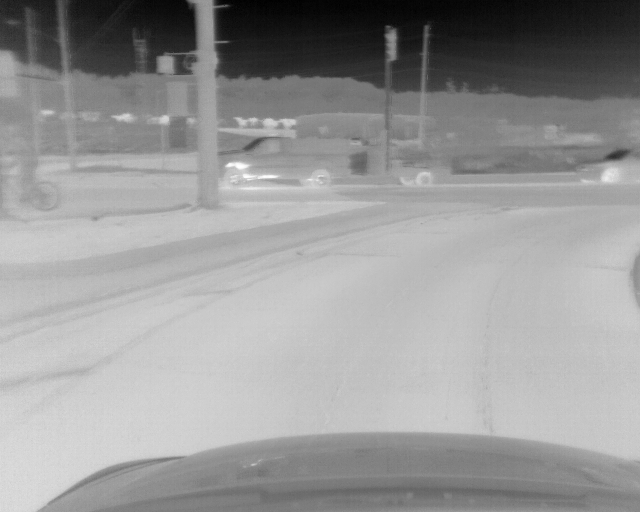bike: (6, 179, 59, 211)
car: (216, 135, 433, 186), (574, 148, 640, 182)
people: (7, 134, 49, 204)
